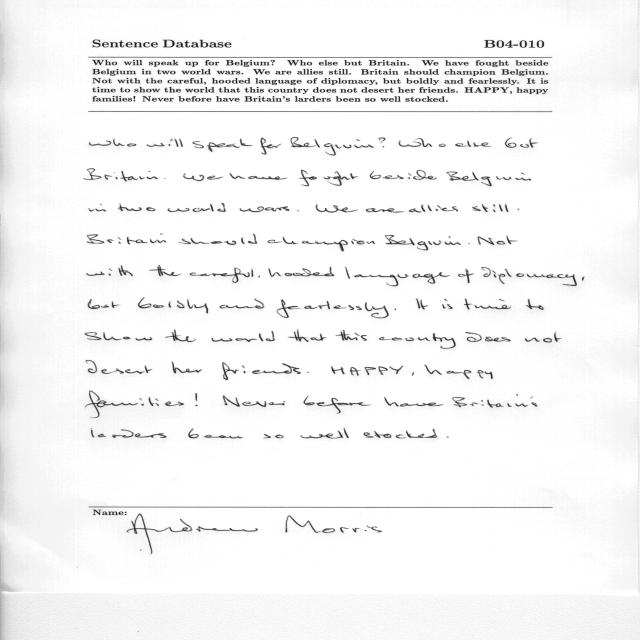word: (85, 391, 184, 418), (277, 300, 389, 319), (345, 267, 450, 286), (481, 267, 577, 286), (290, 138, 374, 156), (268, 237, 375, 251), (222, 362, 301, 380), (446, 172, 531, 187), (379, 333, 456, 349), (452, 394, 538, 408), (385, 235, 461, 250), (304, 396, 371, 413), (138, 298, 208, 313), (424, 365, 493, 379), (84, 169, 158, 182), (190, 268, 254, 283), (299, 170, 358, 186), (86, 360, 152, 374), (88, 234, 167, 245), (178, 234, 257, 245), (192, 139, 253, 152), (223, 395, 285, 407), (331, 366, 403, 376), (211, 331, 275, 342), (91, 429, 167, 438), (370, 170, 437, 180), (363, 429, 437, 438), (268, 267, 334, 277), (384, 397, 443, 407), (188, 429, 243, 439), (86, 332, 153, 340), (168, 203, 226, 212), (464, 299, 511, 310), (87, 266, 133, 277), (300, 429, 349, 439), (465, 332, 511, 342), (288, 330, 326, 342), (220, 299, 264, 309), (399, 138, 446, 147), (525, 332, 562, 343), (477, 235, 517, 245), (230, 173, 287, 180), (409, 205, 458, 213), (90, 139, 137, 147), (505, 137, 538, 148), (166, 330, 196, 342), (172, 362, 202, 374), (149, 266, 181, 277), (315, 205, 358, 213), (336, 330, 367, 341), (261, 138, 281, 155), (147, 138, 183, 147), (88, 299, 119, 309), (240, 206, 290, 212), (118, 204, 155, 212), (473, 204, 509, 212), (183, 174, 223, 181), (458, 269, 474, 283), (455, 141, 491, 147), (526, 299, 544, 310), (366, 208, 404, 212), (89, 204, 106, 212), (416, 299, 428, 310), (442, 299, 453, 309), (263, 434, 284, 438), (379, 137, 386, 148), (195, 393, 198, 406), (582, 277, 584, 281), (412, 372, 414, 376), (258, 275, 260, 278), (297, 210, 299, 212), (447, 436, 449, 438), (518, 209, 520, 210), (468, 243, 470, 244), (395, 308, 396, 310), (307, 372, 309, 373), (164, 178, 165, 179)
